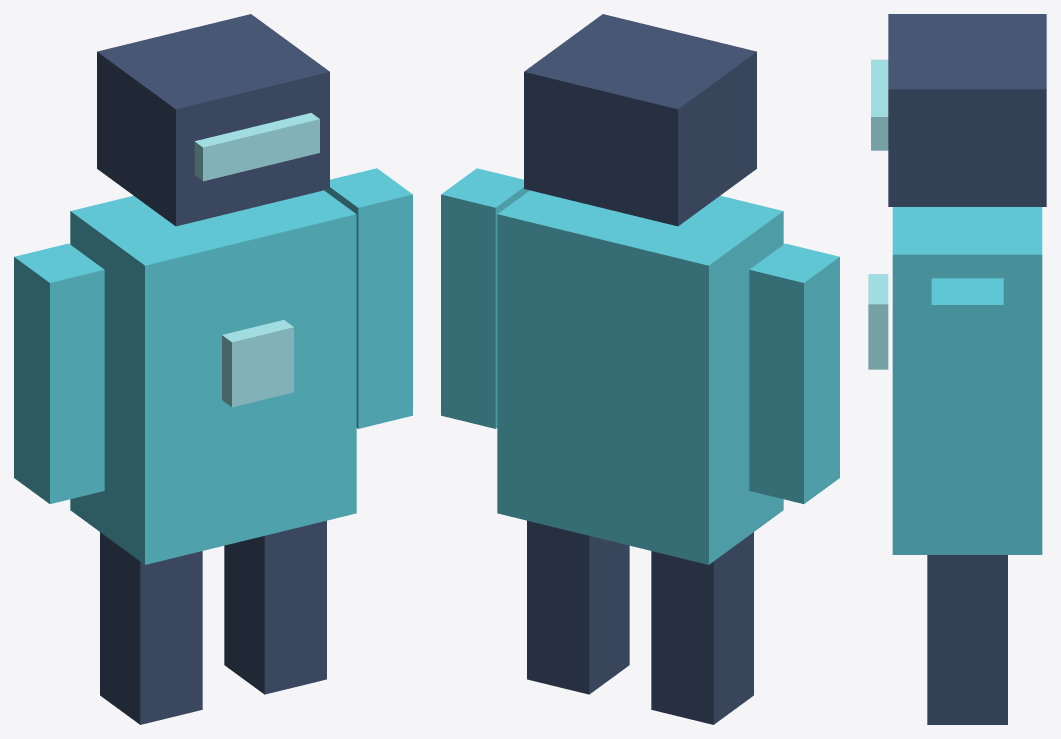
The model's file is simverse-sentinel.gltf.
The picture shows the model from 3 angles, left to right: view 1: azimuth 30°, elevation 25°; view 2: azimuth 150°, elevation 25°; view 3: azimuth 270°, elevation 25°; orthographic projection.
Visible parts, largest first — view 1: Torso, Head, LeftArm, LeftLeg, RightLeg, RightArm, Core, Visor; view 2: Torso, Head, LeftArm, LeftLeg, RightLeg, RightArm; view 3: Torso, Head, RightArm, RightLeg, Core, Visor.
Boxes of the visible parts, <box> form: Torso: <box>70,190,356,564</box>; Head: <box>97,14,329,226</box>; LeftArm: <box>14,243,104,503</box>; LeftLeg: <box>100,532,202,724</box>; RightLeg: <box>224,520,326,694</box>; RightArm: <box>324,168,412,428</box>; Core: <box>222,320,293,407</box>; Visor: <box>194,113,319,181</box>; Torso: <box>497,190,783,564</box>; Head: <box>524,14,756,226</box>; LeftArm: <box>749,243,839,503</box>; LeftLeg: <box>651,532,753,724</box>; RightLeg: <box>527,520,629,694</box>; RightArm: <box>441,168,529,428</box>; Torso: <box>892,207,1042,554</box>; Head: <box>888,14,1046,206</box>; RightArm: <box>931,278,1003,526</box>; RightLeg: <box>927,555,1007,724</box>; Core: <box>868,274,888,369</box>; Visor: <box>871,59,888,150</box>.
Size of the model in its own units: 1.46 by 2.41 by 0.62.
